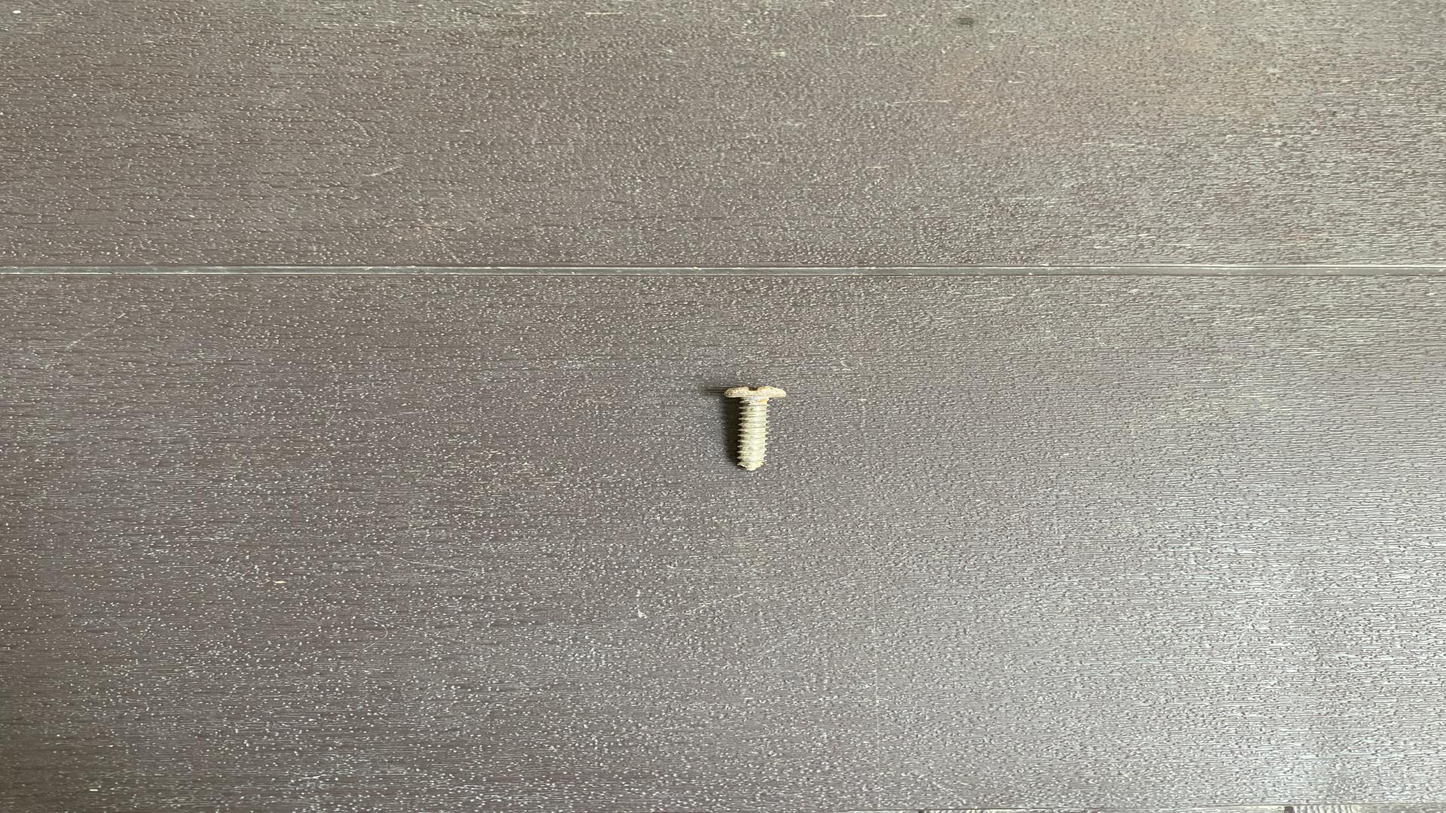screw: (691, 379, 811, 484)
